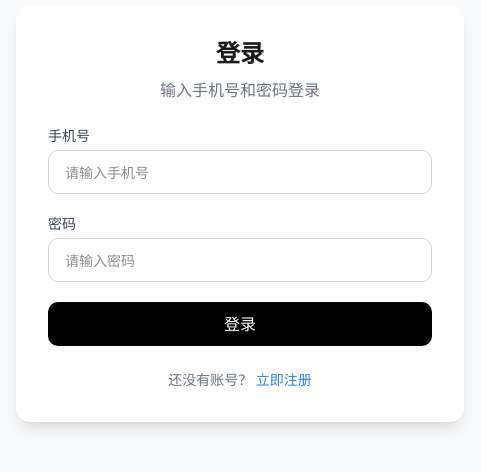
Test: LoginPage › 空表单提交显示校验错误
What coordinates should you click on to do the following:
click the button "登录"
I would click on:
 (240, 324)
Its box is [48,302,432,346].
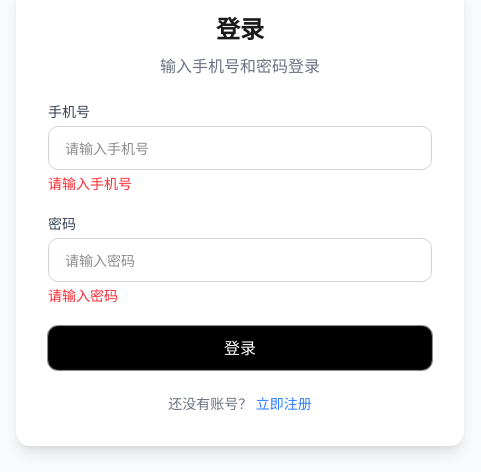
Expected: the text "请输入手机号" is shown, [48,174,132,193]
Expected: the text "请输入密码" is shown, [48,286,118,305]
